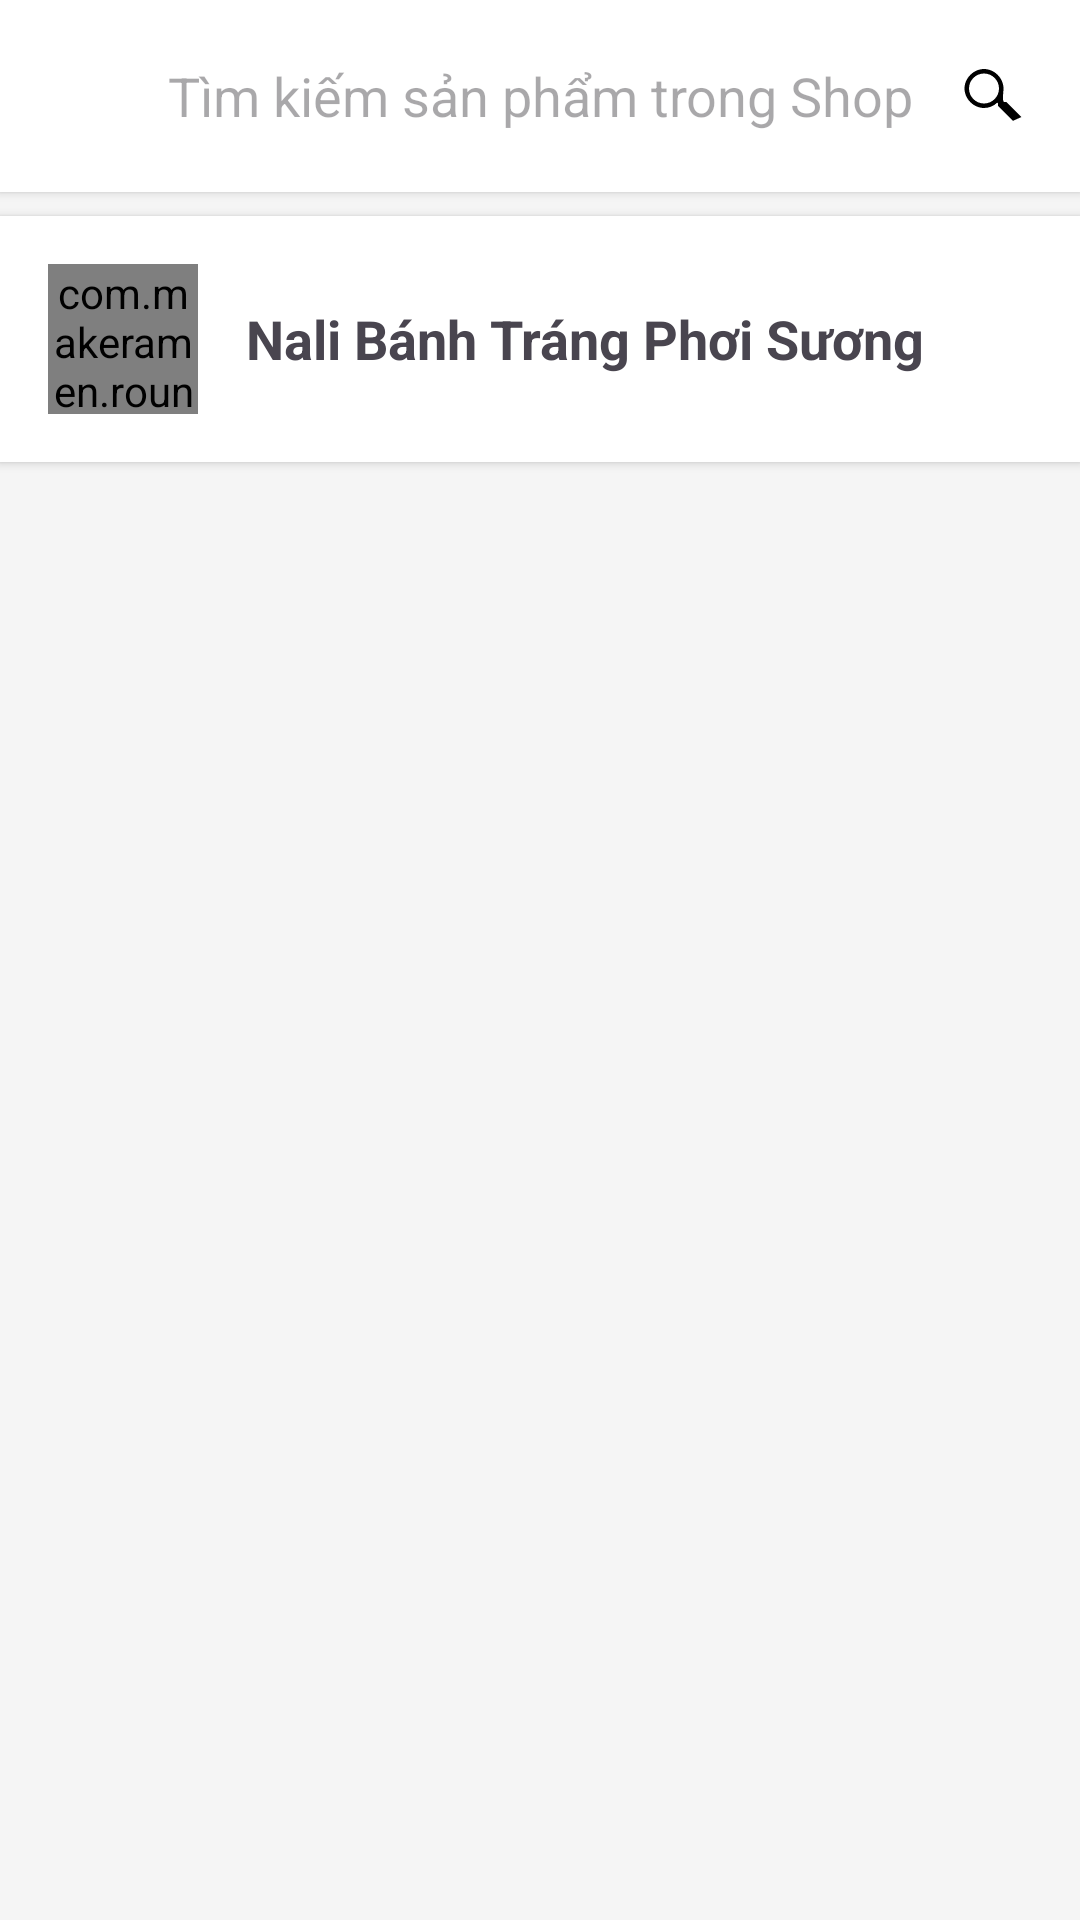

Locate icon controls on the screen. Image size 1080px x 1920px, boxes as (x1, y1, x2, y2).
Search: (964, 69, 1021, 121)
